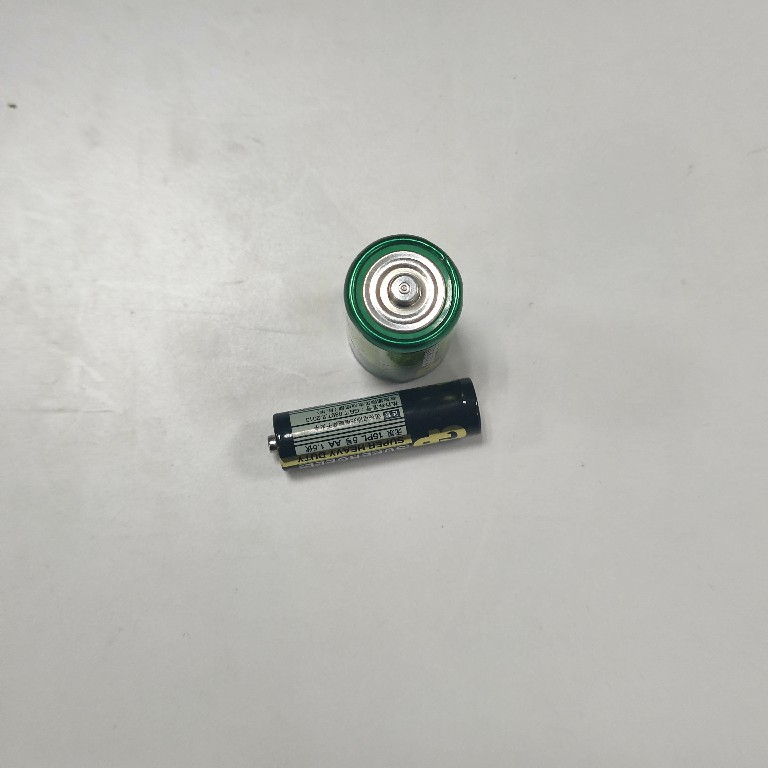charge: (266, 377, 485, 474), (339, 231, 467, 387)
